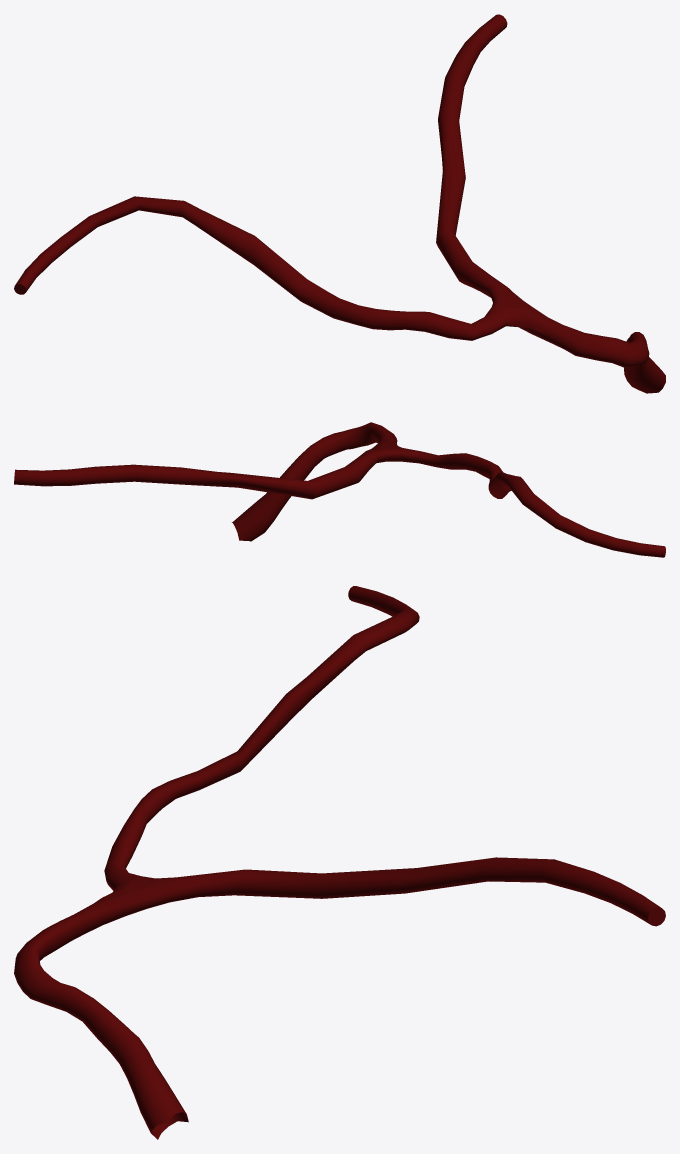
File: Hepatic_Artery.FBX
3 renders of one model, top to bottom at view 1: azimuth 30°, elevation 25°; view 2: azimuth 150°, elevation 25°; view 3: azimuth 270°, elevation 25°, orthographic. The views are drawn at different scales.
Visible parts, largest first — view 1: Hepatic_Artery-Snapshot; view 2: Hepatic_Artery-Snapshot; view 3: Hepatic_Artery-Snapshot.
Part boxes in pixels (bbox=[...]): Hepatic_Artery-Snapshot: bbox=[14, 14, 665, 393]; Hepatic_Artery-Snapshot: bbox=[14, 422, 665, 557]; Hepatic_Artery-Snapshot: bbox=[14, 586, 665, 1139].
Size of the model in its own units: 71.27 by 25.13 by 54.34.
